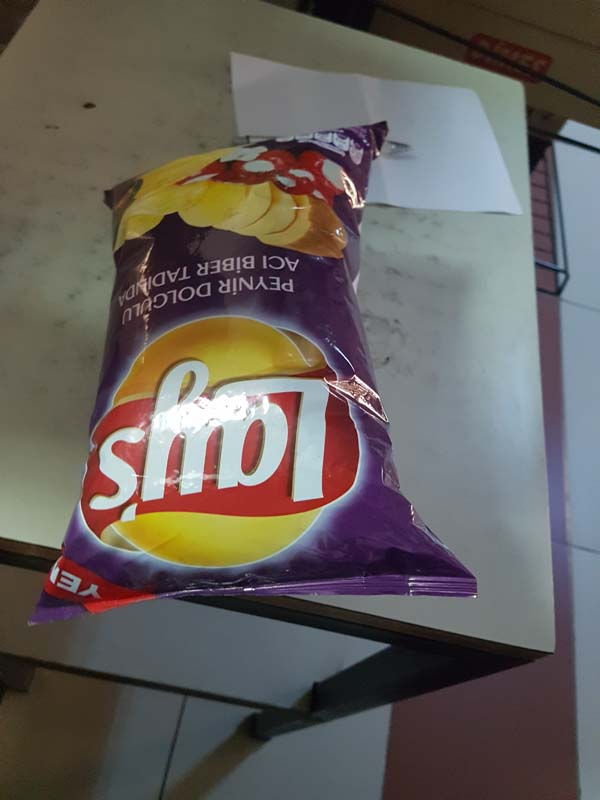layspeynirsoslu: (27, 118, 480, 632)
